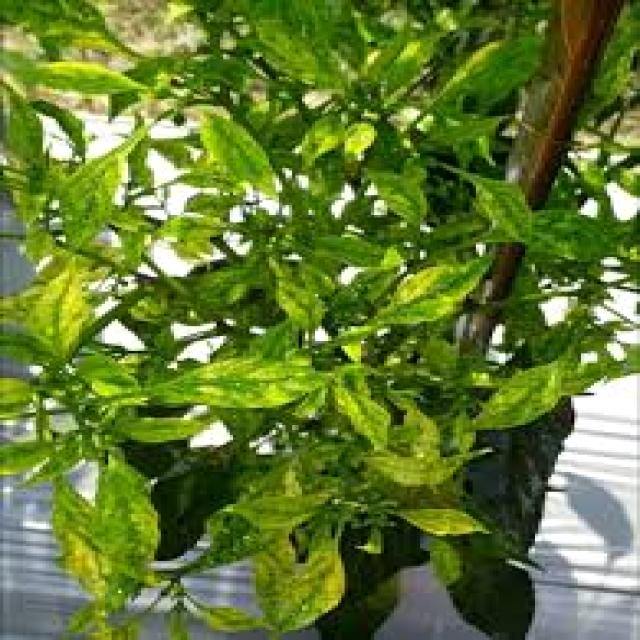yellowish leaf: (10, 240, 125, 362), (52, 126, 146, 248), (250, 529, 344, 635), (166, 356, 325, 412), (363, 419, 475, 494), (381, 253, 492, 326), (92, 453, 157, 575), (194, 108, 277, 196), (469, 358, 564, 431), (332, 374, 394, 452), (268, 264, 322, 332), (5, 95, 45, 171)
